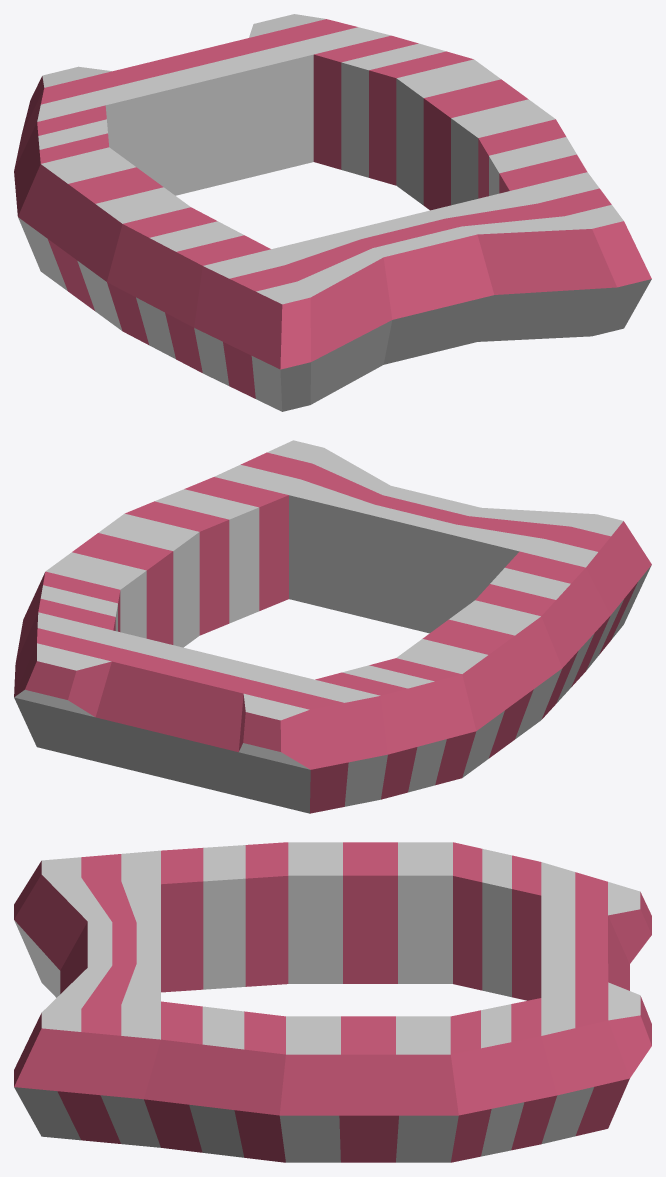
Rendered from CapsuleForDumbEnemy.fbx.
3 renders of one model, top to bottom at view 1: azimuth 30°, elevation 25°; view 2: azimuth 150°, elevation 25°; view 3: azimuth 270°, elevation 25°, orthographic. The views are drawn at different scales.
Parts seen in each view (by area): view 1: capsule1; view 2: capsule1; view 3: capsule1.
Boxes of the visible parts, left/top/right/bottom form: capsule1: left=14, top=14, right=651, bottom=411; capsule1: left=14, top=440, right=651, bottom=813; capsule1: left=14, top=842, right=651, bottom=1162.
Bounding box in the file's own units: 1.94 × 0.4243 × 2.27.
